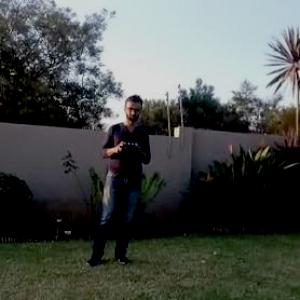follow: (78, 90, 152, 270)
